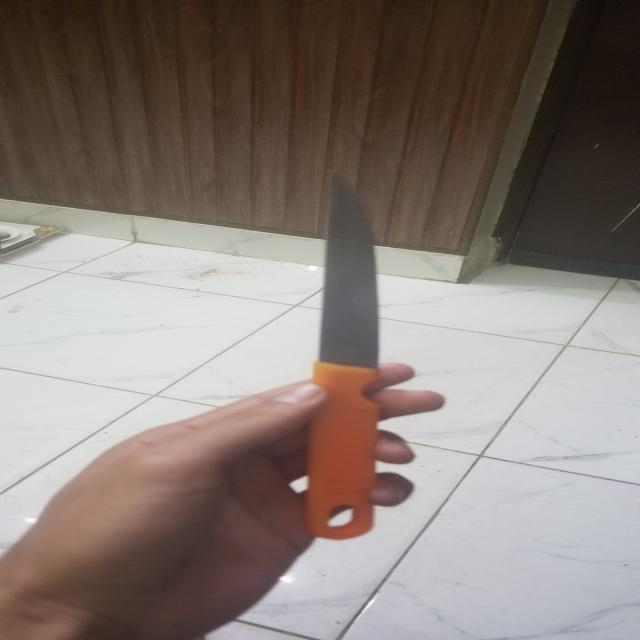knife: (301, 168, 385, 551)
